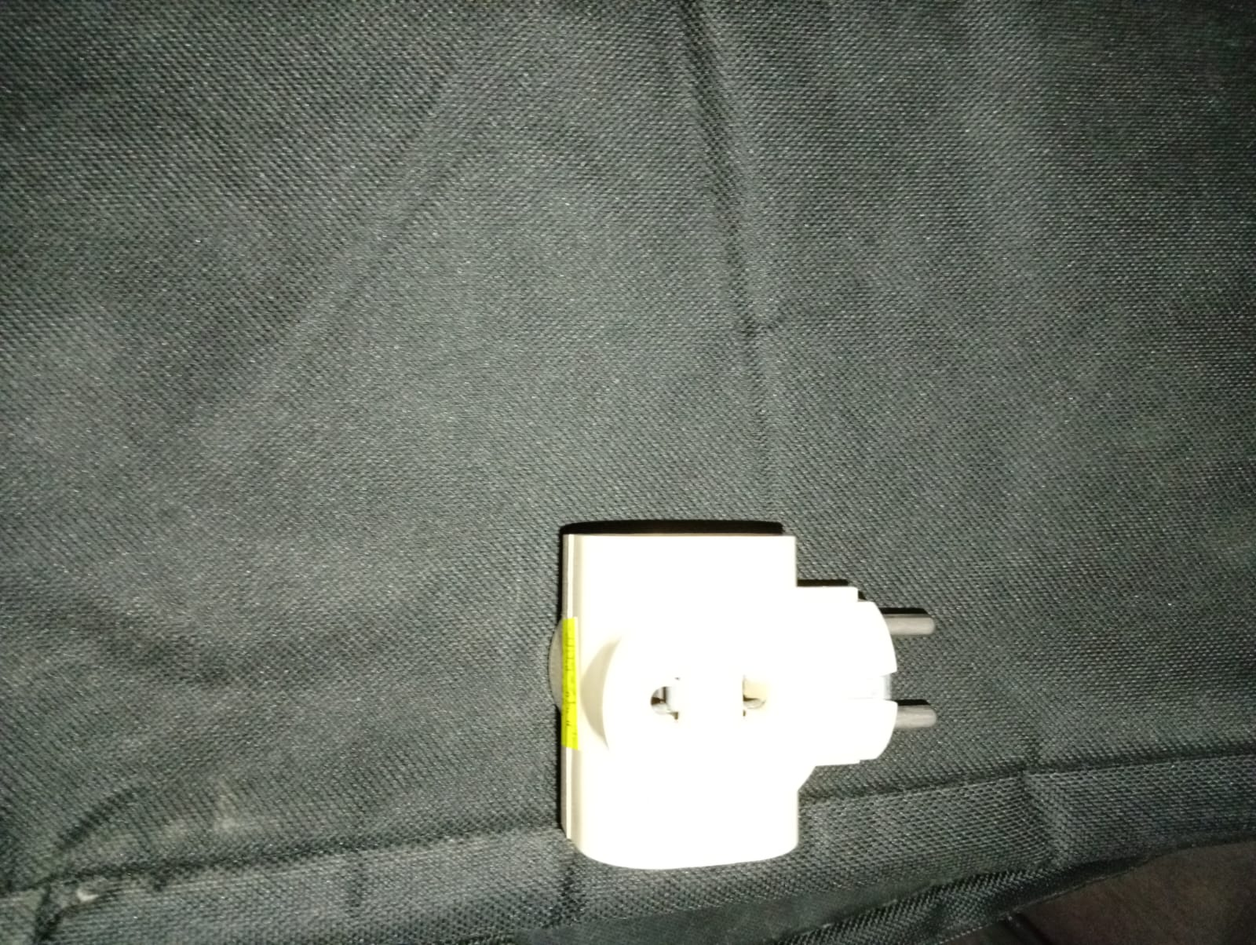Colokan: (524, 496, 946, 884)
